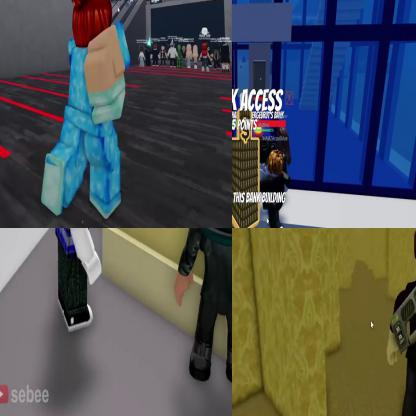Roblox-Avatar: (42, 1, 133, 221), (174, 229, 232, 387), (51, 229, 103, 334), (387, 229, 416, 416), (263, 150, 290, 228), (200, 43, 215, 74), (220, 44, 232, 75), (168, 40, 180, 69), (159, 45, 169, 69), (152, 44, 161, 67), (139, 45, 147, 69), (177, 45, 184, 70), (187, 45, 194, 69), (194, 45, 200, 70)
